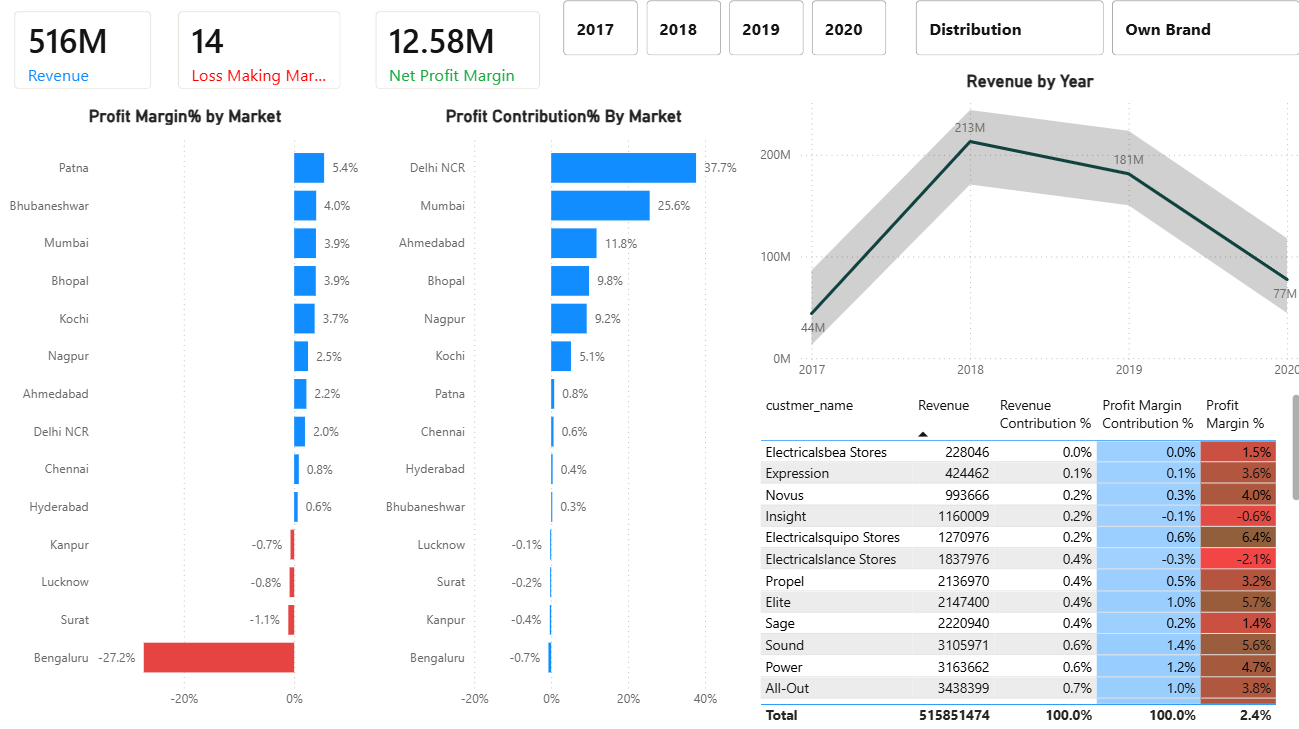

This screenshot's page, from the dashboard's own definition file:
{"tool":"powerbi","page":{"name":"Profit Analysis","canvas":[1280,720],"ordinal":2},"visuals":[{"type":"cardVisual","fields":{"Data":["BaseMeasures.Revenue"]},"box":[0,0,168.8,110],"z":0},{"type":"cardVisual","fields":{"Data":["BaseMeasures.Loss Making Markets"]},"box":[160.2,0,193.2,110.1],"z":1000},{"type":"barChart","title":"Profit Margin% by Market","fields":{"Y":["BaseMeasures.Profit Margin %"],"Category":["sales markets.markets_name"]},"box":[0,108.8,368.1,599.2],"z":2000},{"type":"advancedSlicerVisual","fields":{"Values":["sales date.year"]},"box":[549.1,1.2,328.9,64.8],"z":3000},{"type":"barChart","title":"Profit Contribution% By Market","fields":{"Category":["sales markets.markets_name"],"Y":["BaseMeasures.Profit Margin Contribution %"]},"box":[368.1,108.8,373,599.2],"z":4000},{"type":"tableEx","title":"Top 5 Customers By Revenue","fields":{"Values":["sales customers.custmer_name","BaseMeasures.Revenue","BaseMeasures.Revenue Contribution %","BaseMeasures.Profit Margin Contribution %","BaseMeasures.Profit Margin %"]},"box":[741,386.4,539.3,333.8],"z":5000},{"type":"advancedSlicerVisual","fields":{"Values":["sales products.product_type"]},"box":[893.9,1.2,386.4,64.8],"z":6000},{"type":"lineChart","fields":{"Y":["BaseMeasures.Revenue"],"Category":["sales date.date.Variation.Date Hierarchy.Year","sales date.date.Variation.Date Hierarchy.Quarter","sales date.date.Variation.Date Hierarchy.Month","sales date.date.Variation.Date Hierarchy.Day"]},"box":[741,74.6,539.3,311.8],"z":7000},{"type":"cardVisual","fields":{"Data":["BaseMeasures.Total Profit Margin"]},"box":[353.4,0,195.7,110.1],"z":8000}]}

Visuals, with their boxes in screenshot pixels (x1, y1, x2, y2), scaled from the page's 1280x720 canvas onto the 1299x729 screenshot:
cardVisual - BaseMeasures.Revenue: left=0, top=0, right=171, bottom=111
cardVisual - BaseMeasures.Loss Making Markets: left=163, top=0, right=359, bottom=111
"Profit Margin% by Market" barChart: left=0, top=110, right=374, bottom=717
advancedSlicerVisual - sales date.year: left=557, top=1, right=891, bottom=67
"Profit Contribution% By Market" barChart: left=374, top=110, right=752, bottom=717
"Top 5 Customers By Revenue" tableEx: left=752, top=391, right=1298, bottom=728
advancedSlicerVisual - sales products.product_type: left=907, top=1, right=1298, bottom=67
lineChart - BaseMeasures.Revenue x sales date.date.Variation.Date Hierarchy.Year: left=752, top=76, right=1298, bottom=391
cardVisual - BaseMeasures.Total Profit Margin: left=359, top=0, right=557, bottom=111
